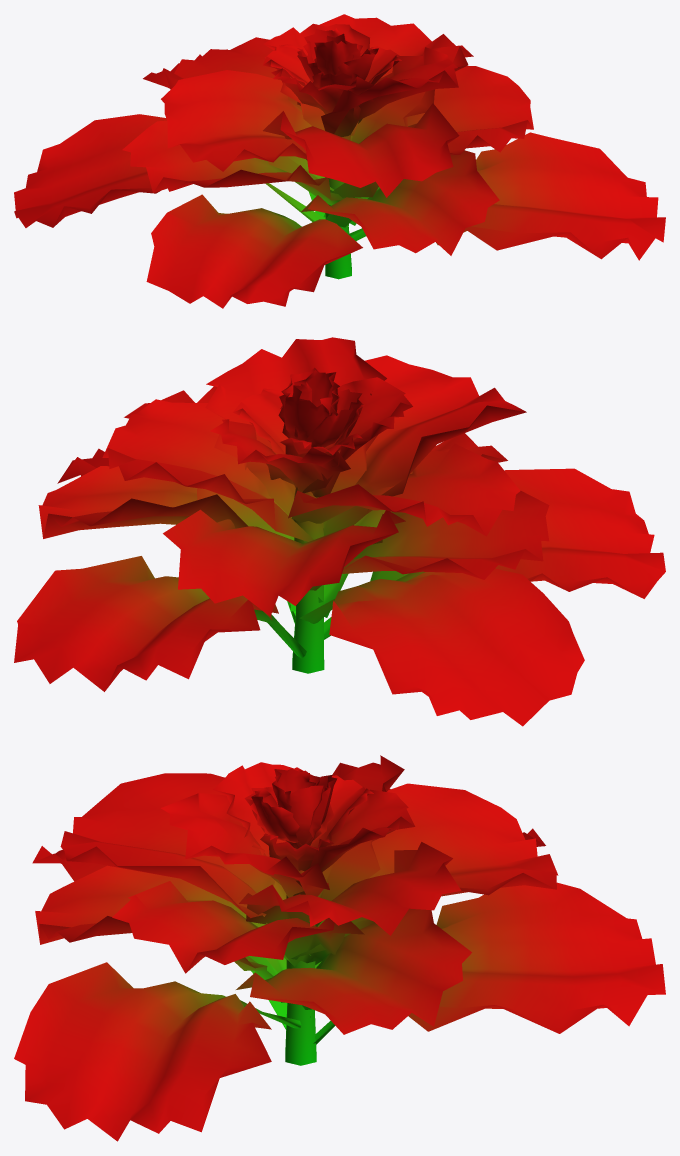
The model's file is White Ornamental Kale_LOD1_Var5_ue3ldcgja.fbx.
3 renders of one model, top to bottom at view 1: azimuth 30°, elevation 25°; view 2: azimuth 150°, elevation 25°; view 3: azimuth 270°, elevation 25°, orthographic. The views are drawn at different scales.
Visible parts, largest first — view 1: _de98_Var5_LOD1; view 2: _de98_Var5_LOD1; view 3: _de98_Var5_LOD1.
Boxes of the visible parts, x1,y1,x2,y2 form: _de98_Var5_LOD1: (14,14,665,308); _de98_Var5_LOD1: (14,337,665,726); _de98_Var5_LOD1: (14,755,665,1141).
Size of the model in its own units: 76.62 by 33.92 by 70.97.
